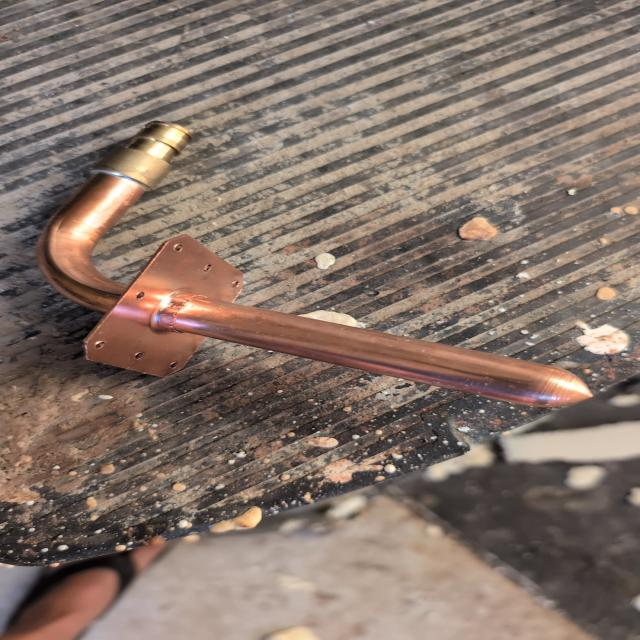wall_flange: (29, 112, 596, 421)
